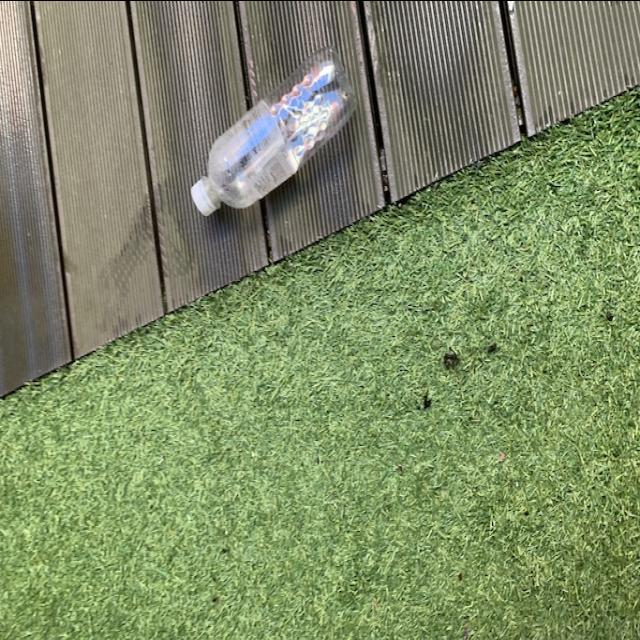litter: (190, 39, 364, 220)
